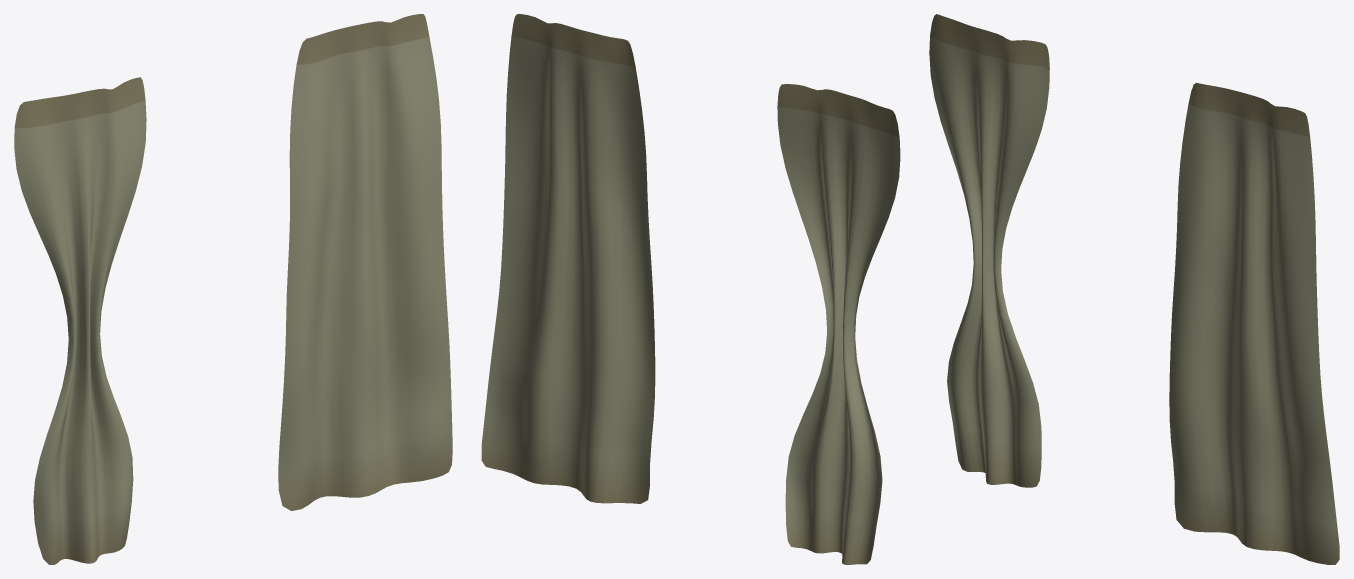
Rendered from Cortina.fbx.
3 views of the same model, side by side, from view 1: azimuth 30°, elevation 25°; view 2: azimuth 150°, elevation 25°; view 3: azimuth 330°, elevation 25° (orthographic). The views are drawn at different scales.
Parts seen in each view (by area): view 1: SM_Cortina_01, SM_Cortina_02; view 2: SM_Cortina_01, SM_Cortina_02; view 3: SM_Cortina_01, SM_Cortina_02.
Boxes of the visible parts, x1,y1,x2,y2 form: SM_Cortina_01: (278, 14, 452, 510); SM_Cortina_02: (14, 77, 146, 564); SM_Cortina_01: (481, 14, 655, 503); SM_Cortina_02: (777, 84, 900, 564); SM_Cortina_01: (1169, 82, 1339, 564); SM_Cortina_02: (929, 14, 1049, 487).
Size of the model in its own units: 126 by 131 by 8.95.
